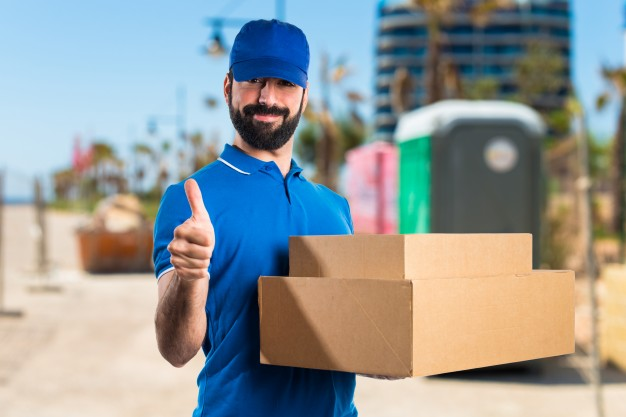thumbsup: (167, 178, 215, 281)
